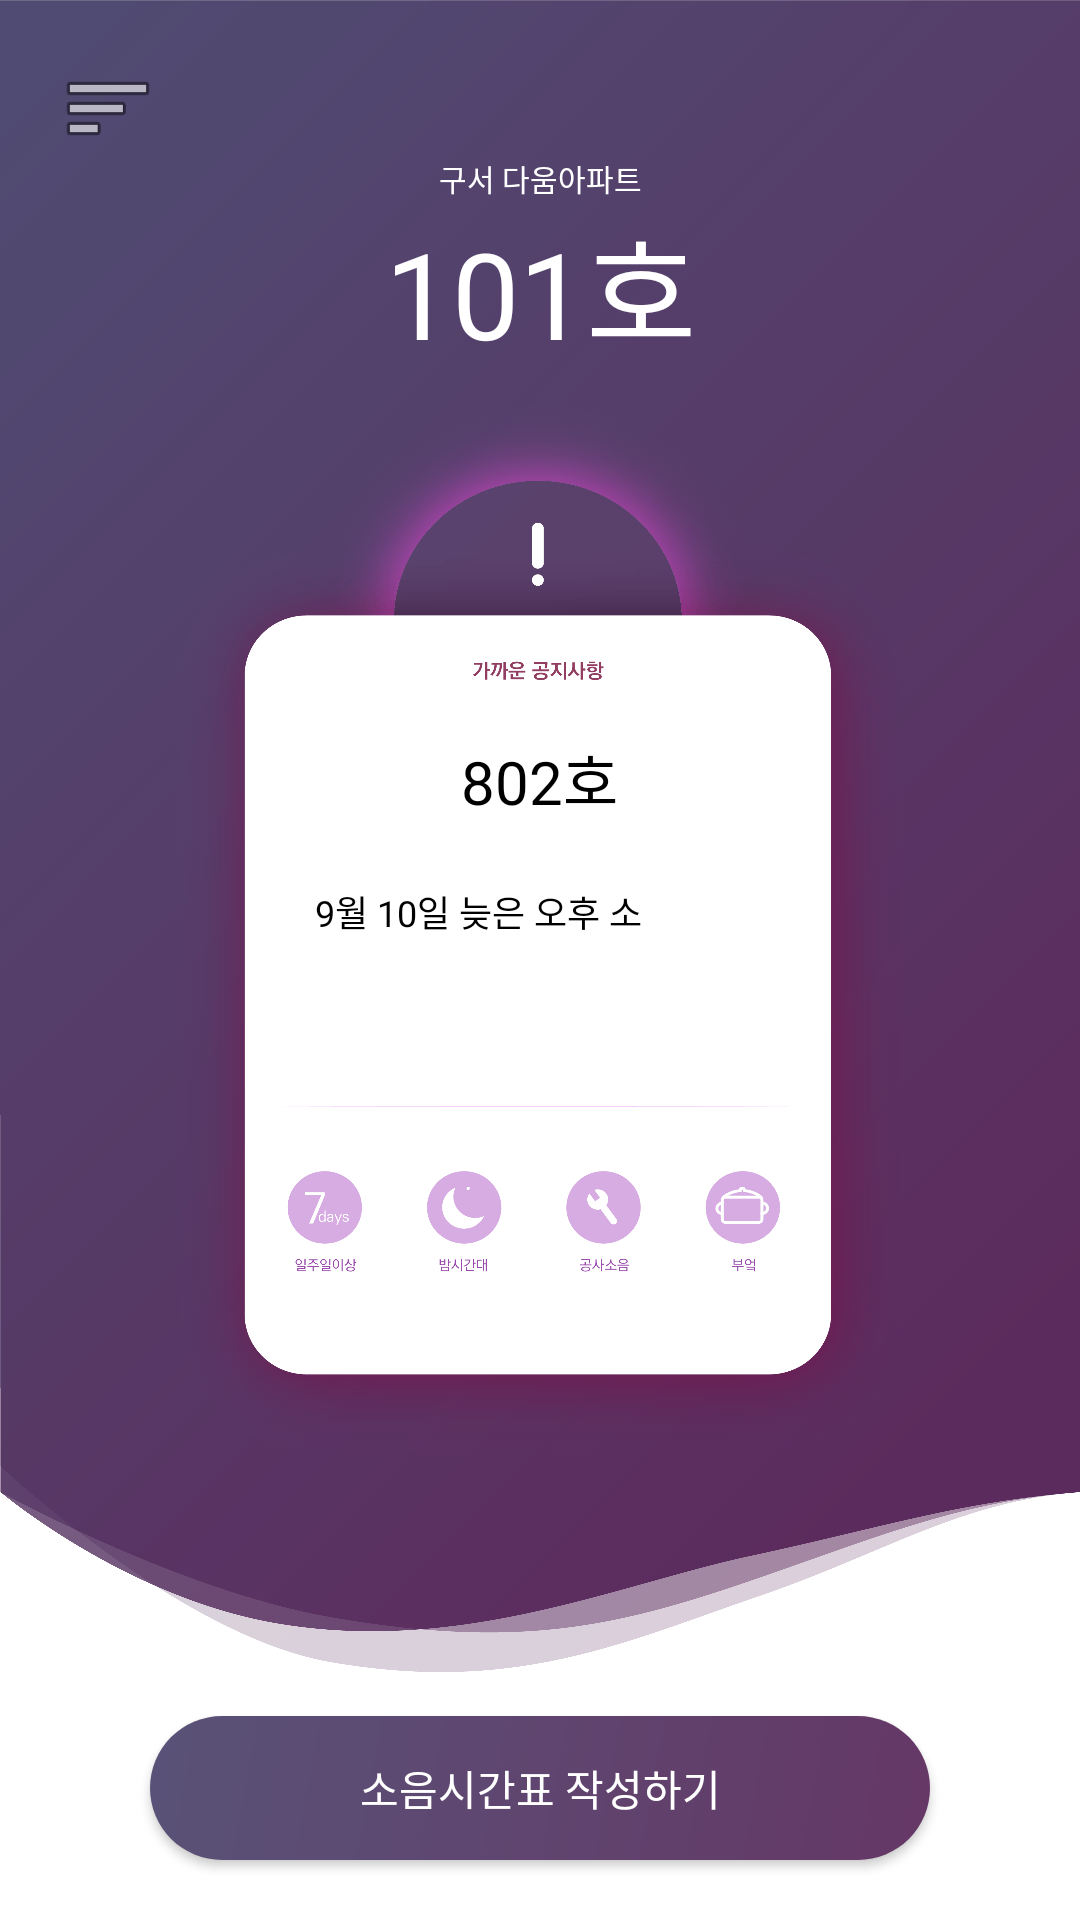

Point at icon controls on the screen. Image size 1080×1920, points as [x,y].
sort by size: [108,108]
